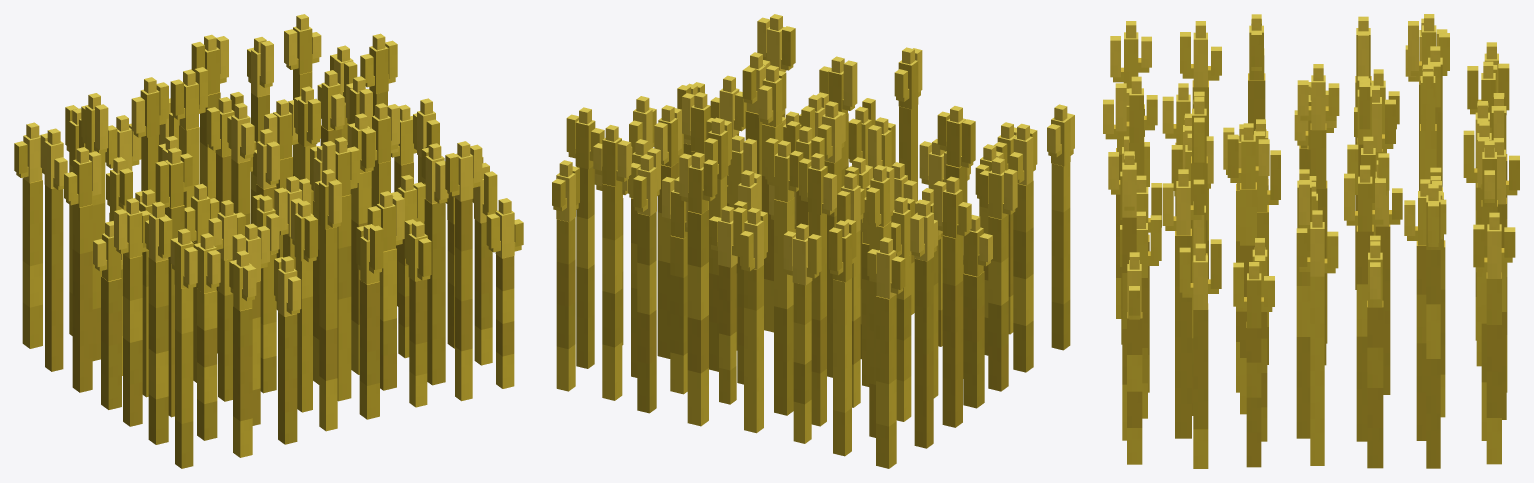
File: SM_Blender_WheatPatch.glb
3 views of the same model, side by side, from view 1: azimuth 30°, elevation 25°; view 2: azimuth 150°, elevation 25°; view 3: azimuth 270°, elevation 25° (orthographic). The views are drawn at different scales.
Visible parts, largest first — view 1: SM_Blender_WheatPatch; view 2: SM_Blender_WheatPatch; view 3: SM_Blender_WheatPatch.
Boxes of the visible parts, bbox=[...] form: SM_Blender_WheatPatch: bbox=[14, 14, 523, 468]; SM_Blender_WheatPatch: bbox=[552, 14, 1074, 468]; SM_Blender_WheatPatch: bbox=[1103, 14, 1519, 468].
Bounding box in the file's own units: 1.32 × 0.9278 × 1.18.
1 material, 1 textured.
